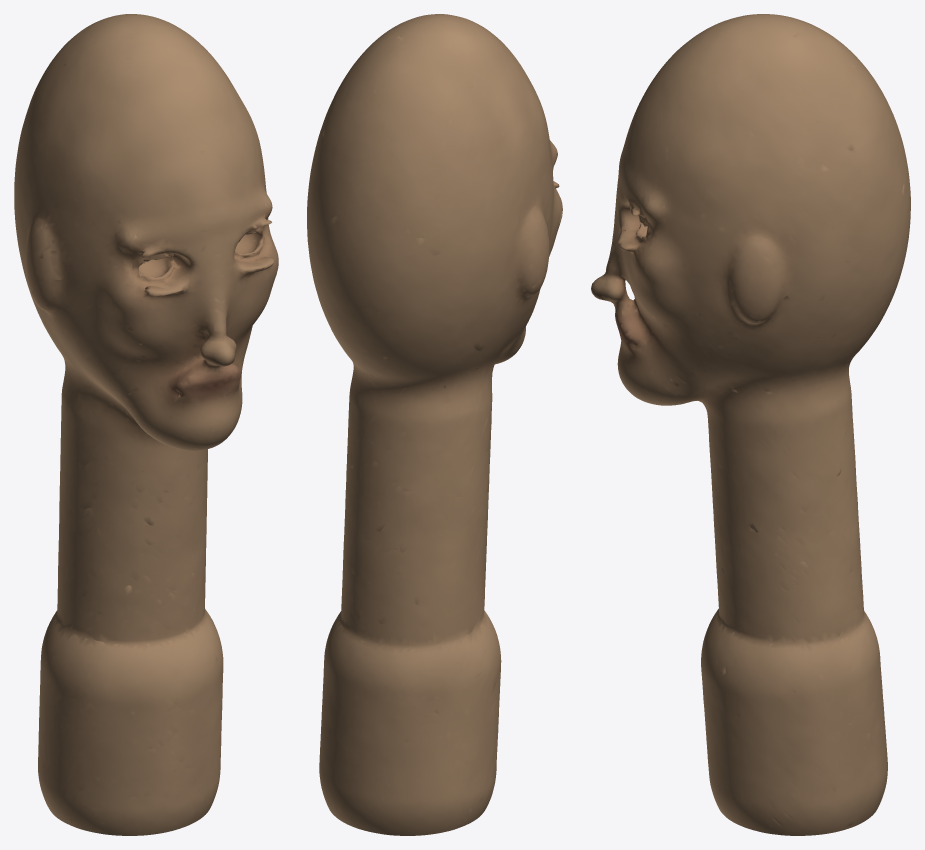
File: mert_skin.glb
3 views of the same model, side by side, from view 1: azimuth 30°, elevation 25°; view 2: azimuth 150°, elevation 25°; view 3: azimuth 270°, elevation 25° (orthographic). The views are drawn at different scales.
Parts seen in each view (by area): view 1: geometry_0; view 2: geometry_0; view 3: geometry_0.
Part boxes in pixels (x1,y1,x2,y2): geometry_0: [14, 14, 278, 835]; geometry_0: [307, 14, 562, 835]; geometry_0: [591, 14, 910, 835].
Bounding box in the file's own units: 0.135 × 0.4481 × 0.167.
